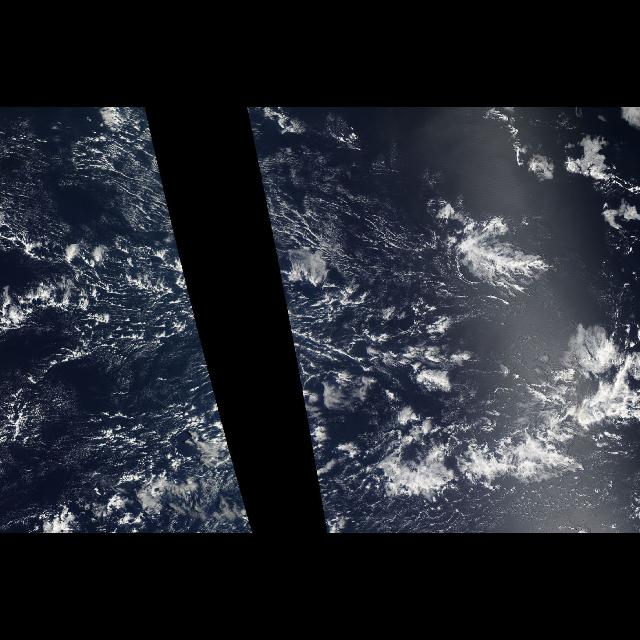Fish: (374, 215, 640, 497)
Gravel: (1, 109, 253, 534), (244, 109, 350, 534)
Sugar: (274, 159, 440, 339)
